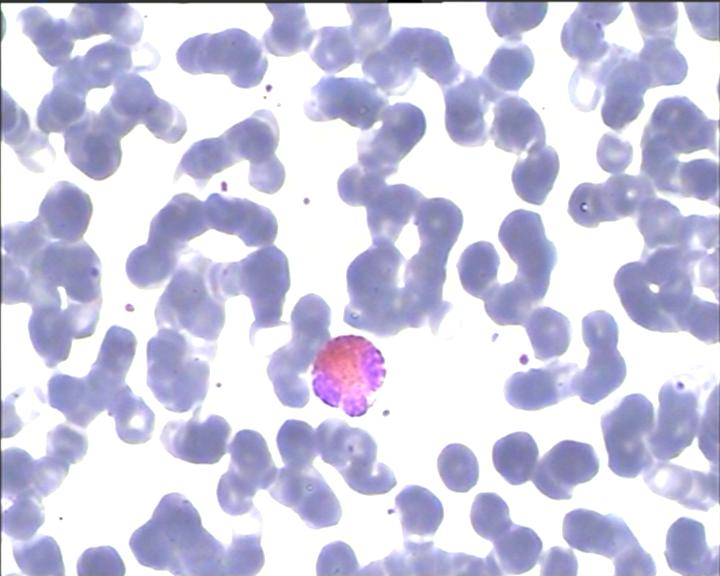eosi: (305, 328, 387, 420)
